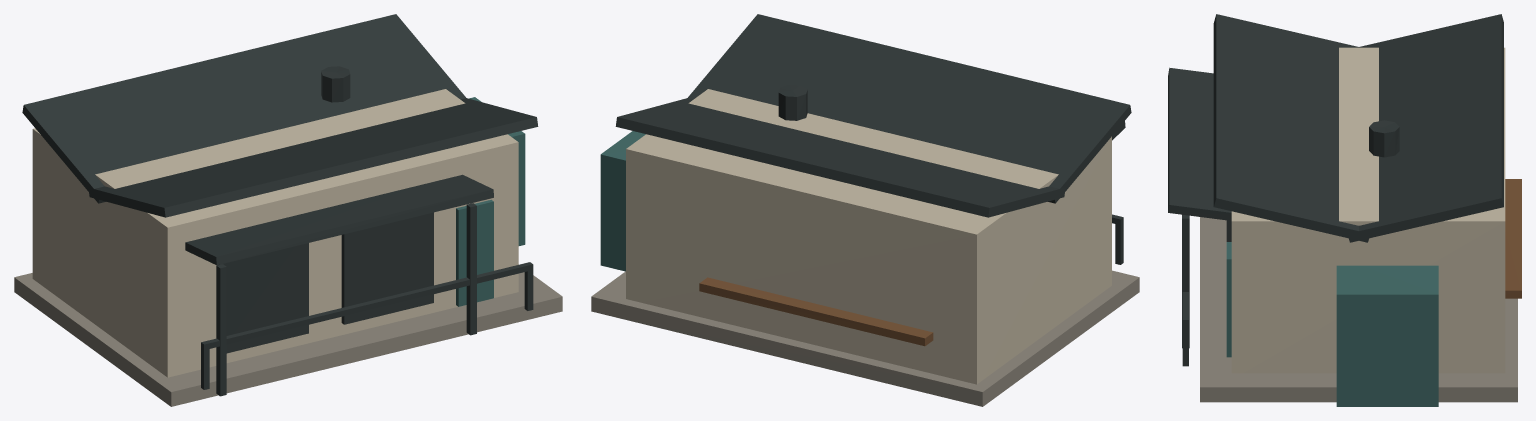
Rendered from Fish-Processing-Shed.glb.
3 renders of one model, left to right at view 1: azimuth 30°, elevation 25°; view 2: azimuth 150°, elevation 25°; view 3: azimuth 270°, elevation 25°, orthographic.
Visible parts, largest first — view 1: fish-processing-shed-static-fish-processing-shed-charcoal-ro, fish-processing-shed-static-fish-processing-shed-cream-wall-, fish-processing-shed-static-fish-processing-shed-pale-stone-, fish-processing-shed-static-fish-processing-shed-muted-teal-; view 2: fish-processing-shed-static-fish-processing-shed-cream-wall-, fish-processing-shed-static-fish-processing-shed-charcoal-ro, fish-processing-shed-static-fish-processing-shed-pale-stone-, fish-processing-shed-static-fish-processing-shed-warm-timber, fish-processing-shed-static-fish-processing-shed-muted-teal-; view 3: fish-processing-shed-static-fish-processing-shed-charcoal-ro, fish-processing-shed-static-fish-processing-shed-cream-wall-, fish-processing-shed-static-fish-processing-shed-muted-teal-, fish-processing-shed-static-fish-processing-shed-pale-stone-, fish-processing-shed-static-fish-processing-shed-warm-timber.
Part boxes in pixels (x1,y1,x2,y2): fish-processing-shed-static-fish-processing-shed-charcoal-ro: (22,14,538,396); fish-processing-shed-static-fish-processing-shed-cream-wall-: (32,89,518,377); fish-processing-shed-static-fish-processing-shed-pale-stone-: (14,272,562,406); fish-processing-shed-static-fish-processing-shed-muted-teal-: (456,97,525,306); fish-processing-shed-static-fish-processing-shed-cream-wall-: (626,89,1111,384); fish-processing-shed-static-fish-processing-shed-charcoal-ro: (615,14,1131,264); fish-processing-shed-static-fish-processing-shed-pale-stone-: (591,270,1139,406); fish-processing-shed-static-fish-processing-shed-warm-timber: (699,277,933,346); fish-processing-shed-static-fish-processing-shed-muted-teal-: (600,131,645,271); fish-processing-shed-static-fish-processing-shed-charcoal-ro: (1168,14,1503,366); fish-processing-shed-static-fish-processing-shed-cream-wall-: (1231,47,1505,373); fish-processing-shed-static-fish-processing-shed-muted-teal-: (1226,242,1438,406); fish-processing-shed-static-fish-processing-shed-pale-stone-: (1200,217,1517,402); fish-processing-shed-static-fish-processing-shed-warm-timber: (1505,179,1521,298).
Size of the model in its own units: 7.75 by 3.61 by 5.56.
